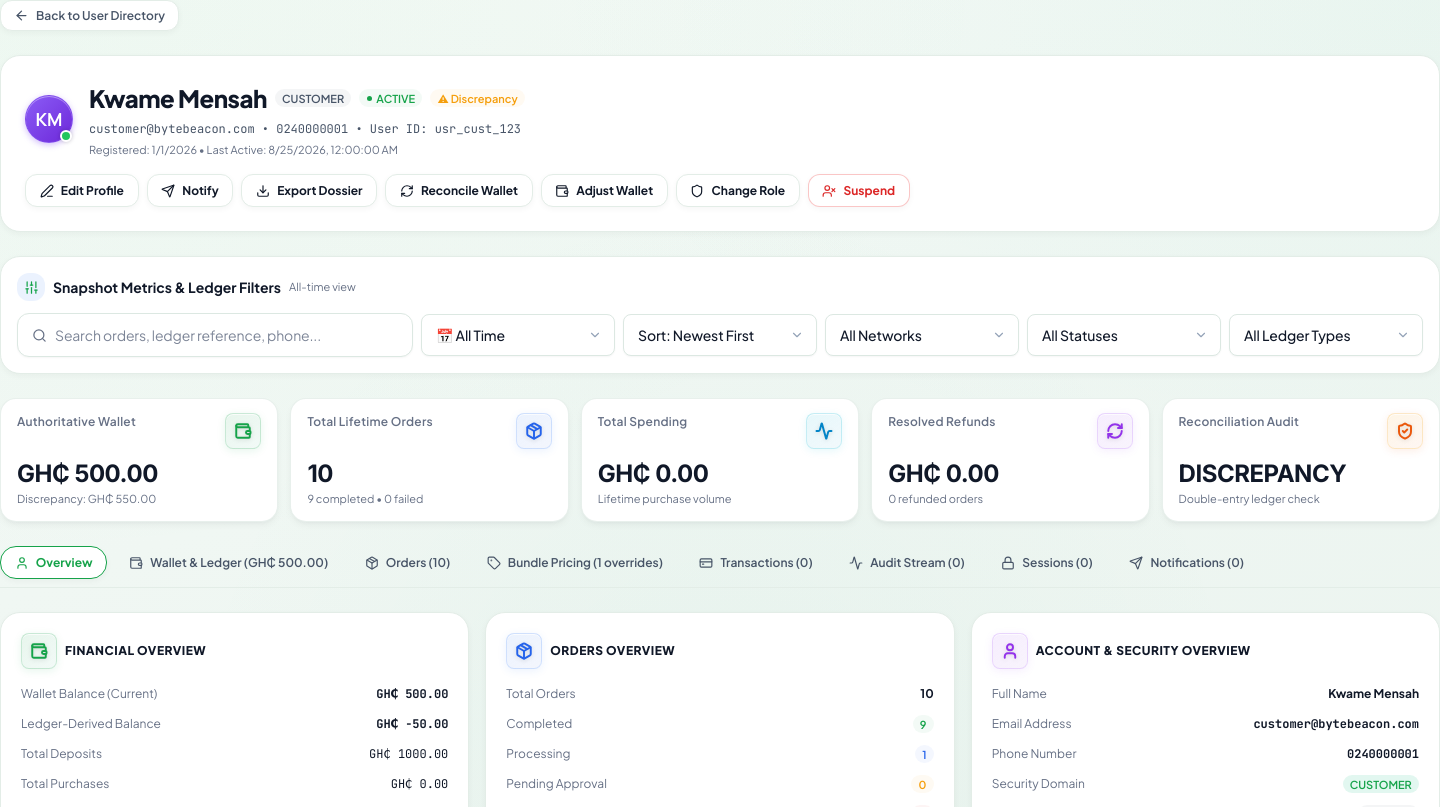
Test case: AdminUserDetailPage — Custom Data Bundle Pricing & Wallet Adjustments › 7. displays active discrepancy callout in Adjust Wallet modal when in Override mode
expect the heading "Kwame Mensah" is shown: met, box [89,80,267,116]
// Open Adjust Wallet modal
Click the button "Adjust Wallet": (604, 191) [540,174,668,207]
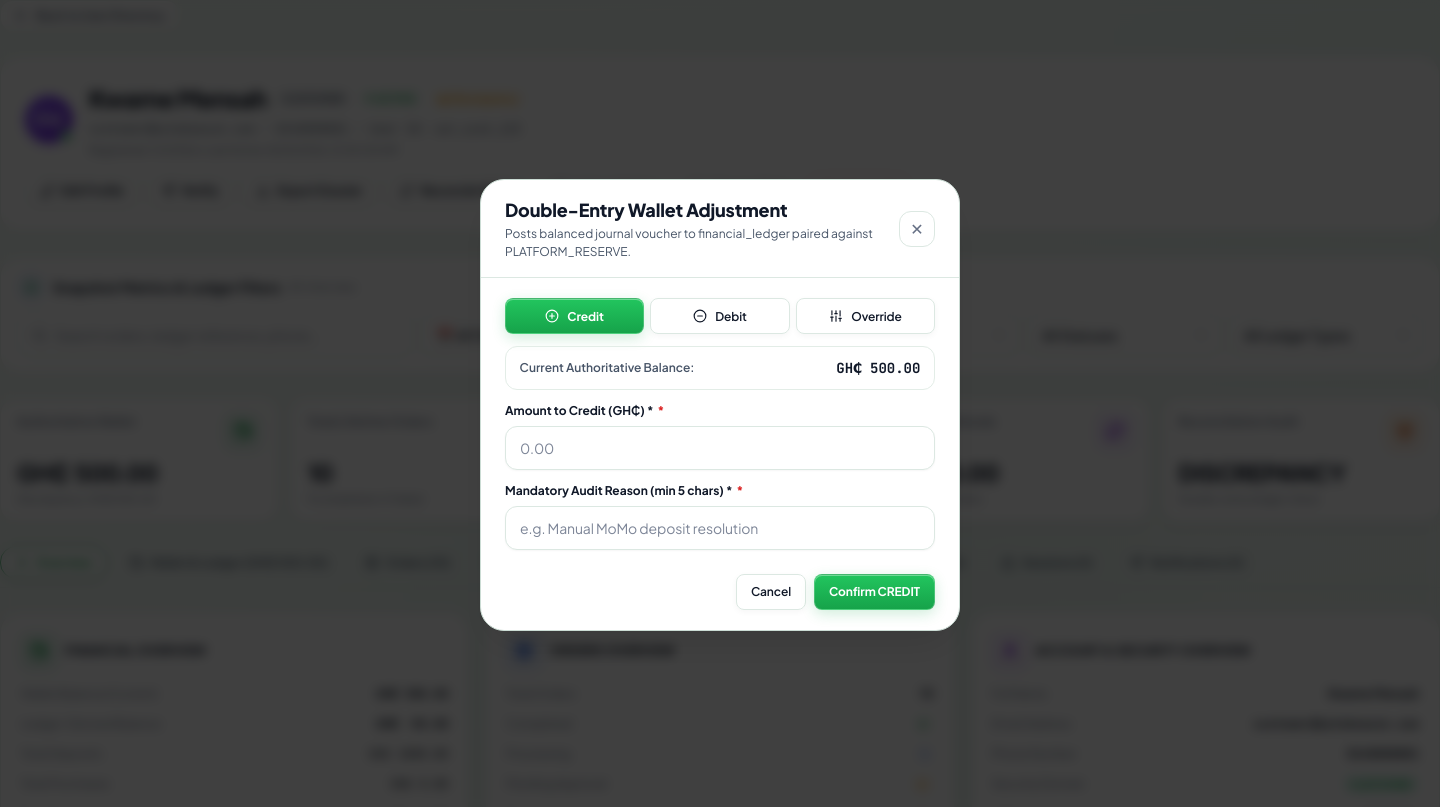
// Switch to Override mode
Click the button "Override": (865, 316) [796,298,935,334]
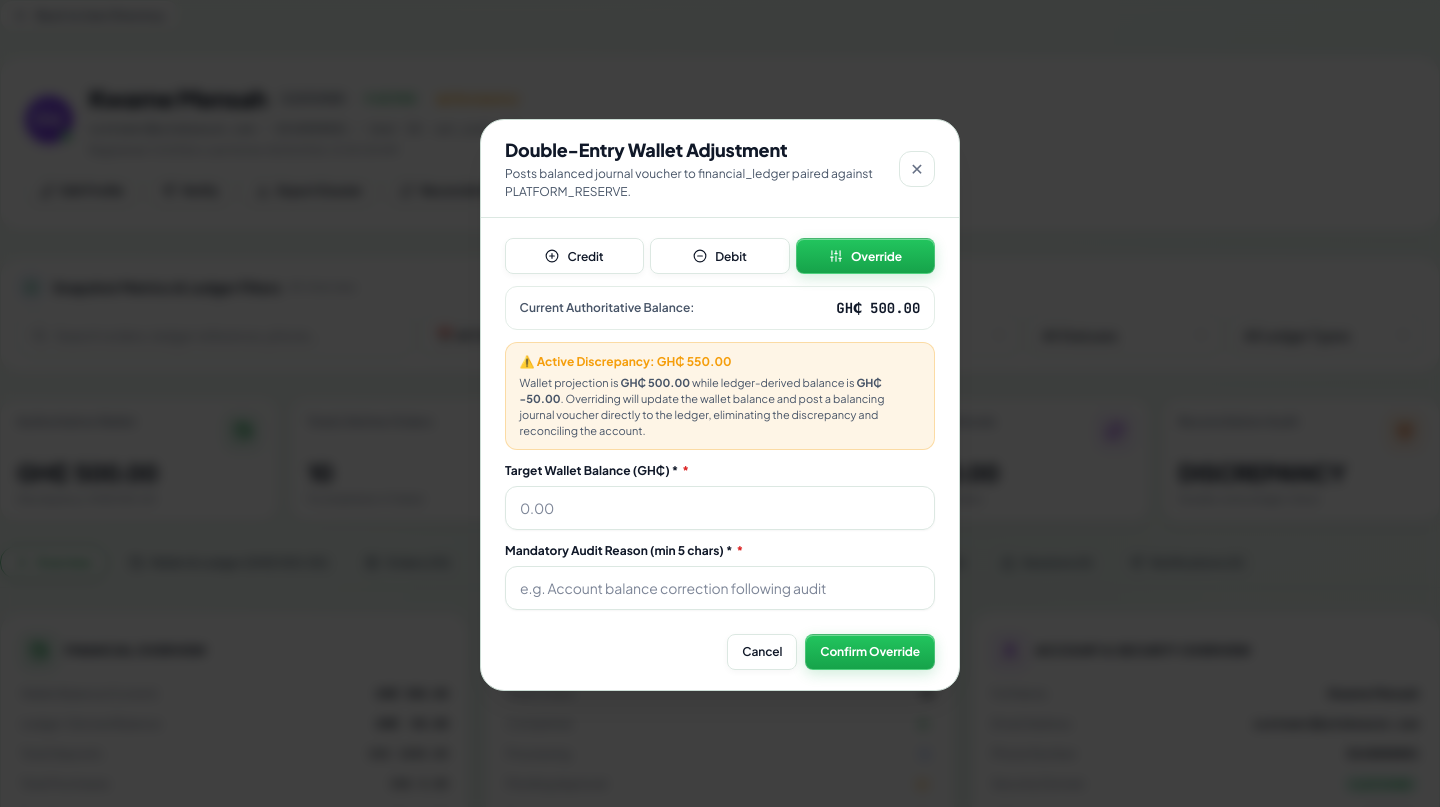
expect the text "⚠️ Active Discrepancy: GH₵ 550.00" is shown: met, box [520,354,732,369]
